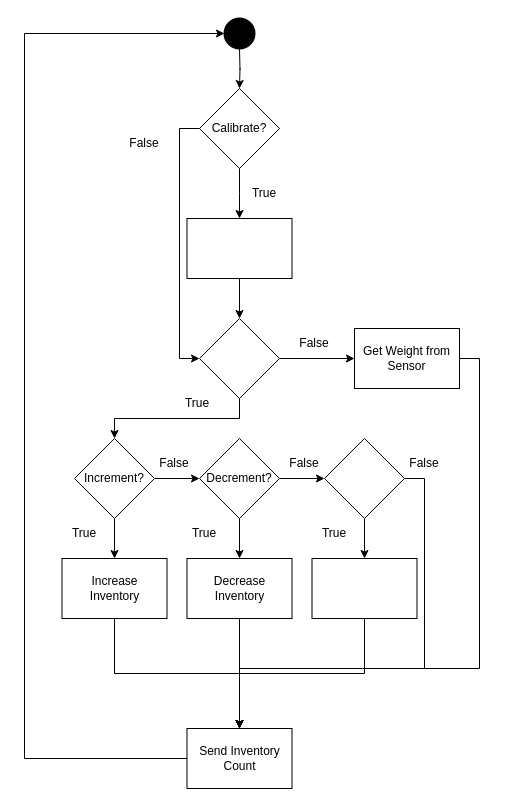
This 505x806 diagram has some shape labels left out. Each missing label, with the centre of its shape:
Clear Inventory: the point at 364,588
Clear?: the point at 364,478
Set Button?: the point at 239,358
Set Current Measured Weight to Zero: the point at 239,248
